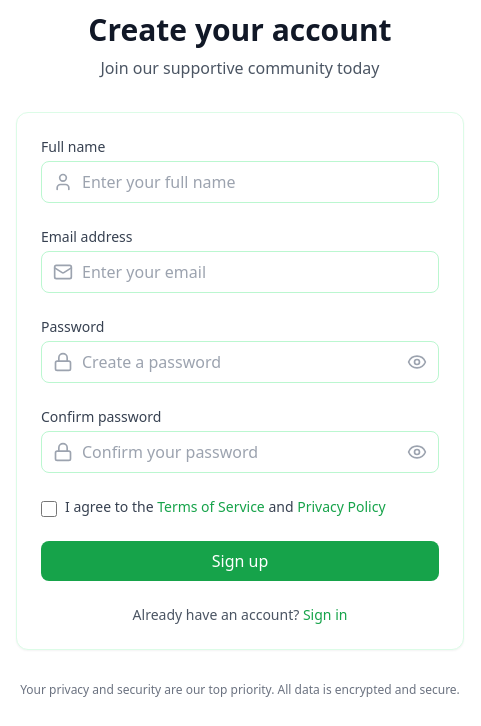
Test: Register Page › shows validation errors on submit with empty fields
Click the button "Sign up" at [240, 561], box left=41, top=541, right=439, bottom=581
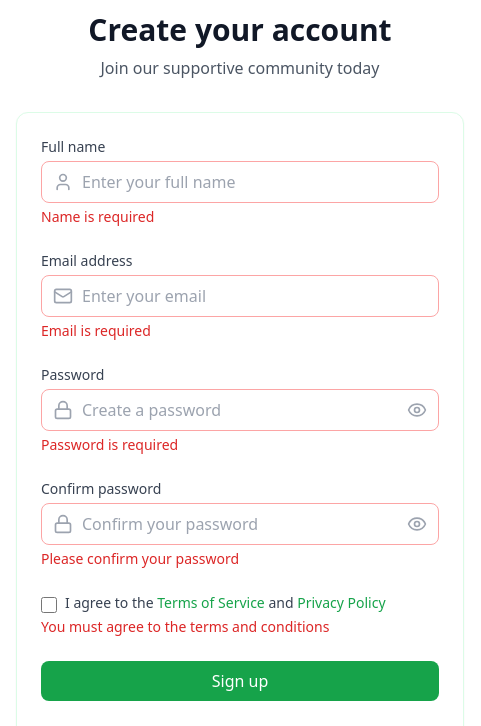
Result: the text "Name is required" is shown at left=41, top=207, right=154, bottom=226
Result: the text "Email is required" is shown at left=41, top=321, right=151, bottom=340
Result: the text "Password is required" is shown at left=41, top=435, right=178, bottom=454
